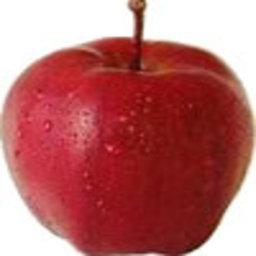apple: (3, 8, 253, 254)
